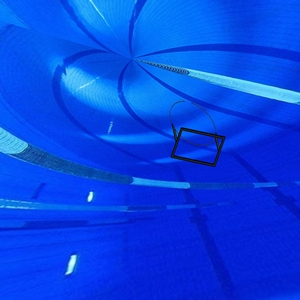circle: (169, 94, 228, 173)
